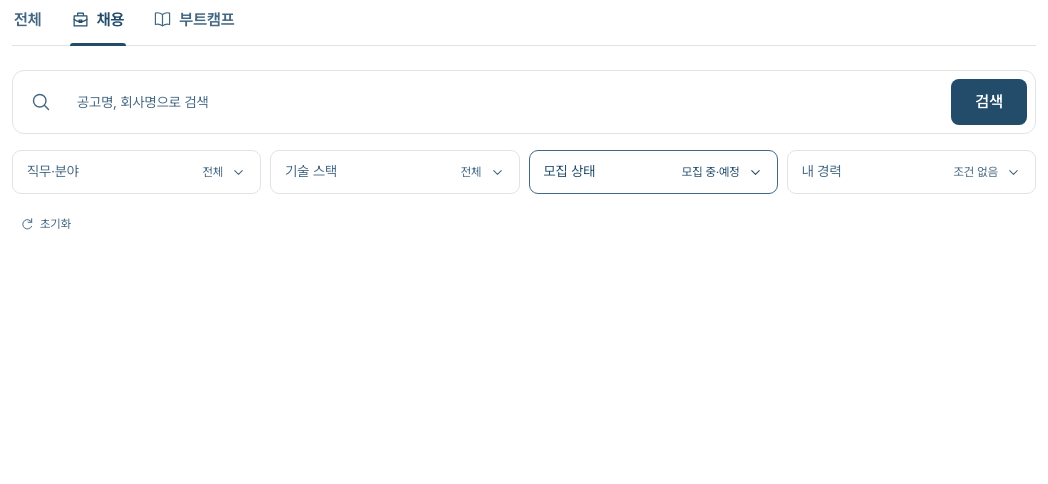
Test: 모집 상태 선택은 정확한 URL 값과 요약을 적용하고 패널을 닫는다
Click the button "모집 상태 모집 중·예정". click: (653, 172)
box: [528,150,778,194]
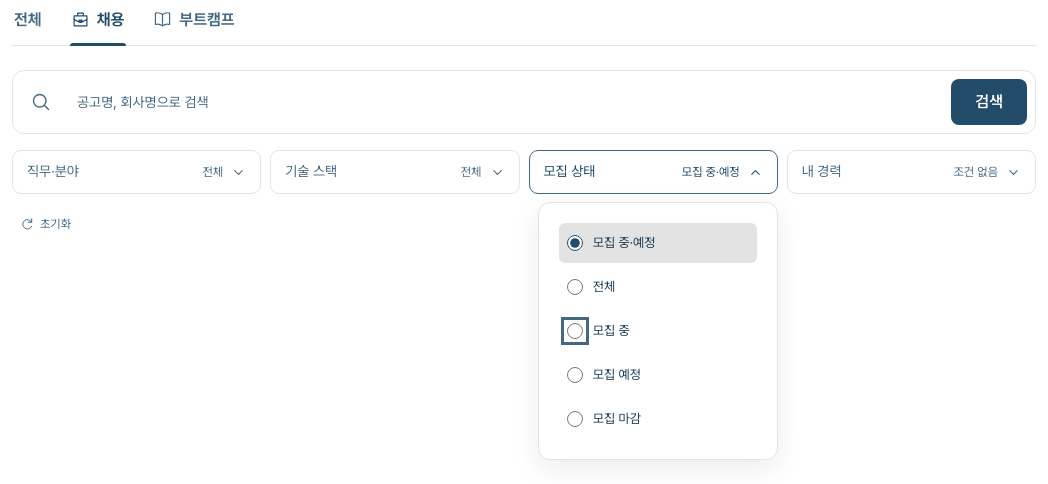
Click the radio button labelled "모집 중". click: (575, 331)
box: [567,323,583,339]
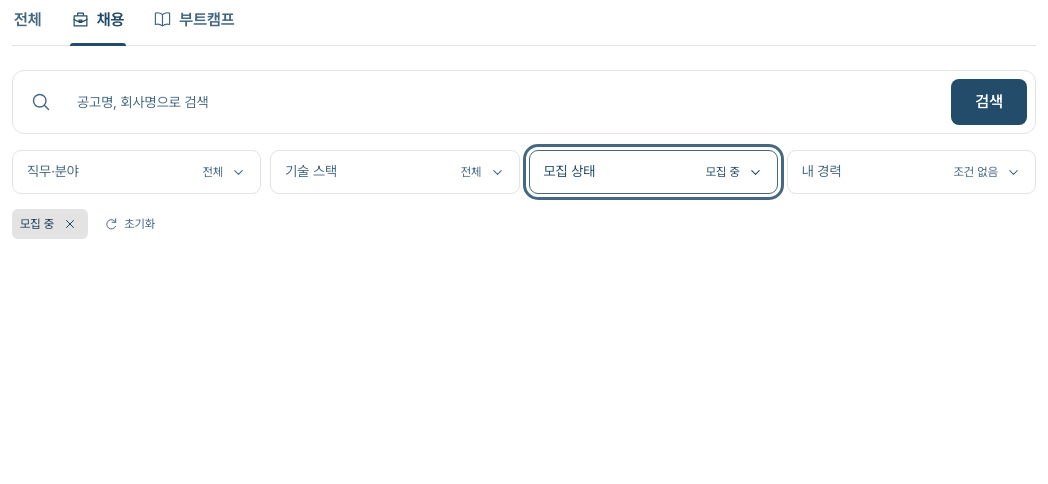
expect the element with class "active-filters" shows "모집 중": met, box [20,217,54,231]
